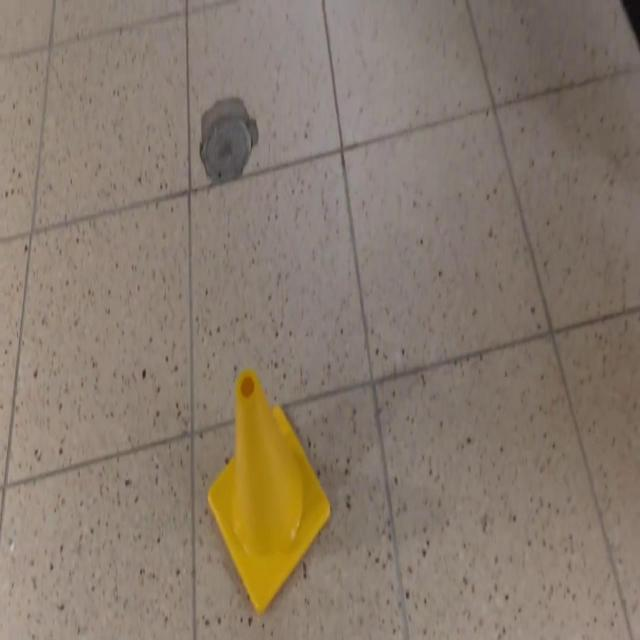frc_cone: (207, 367, 331, 614)
